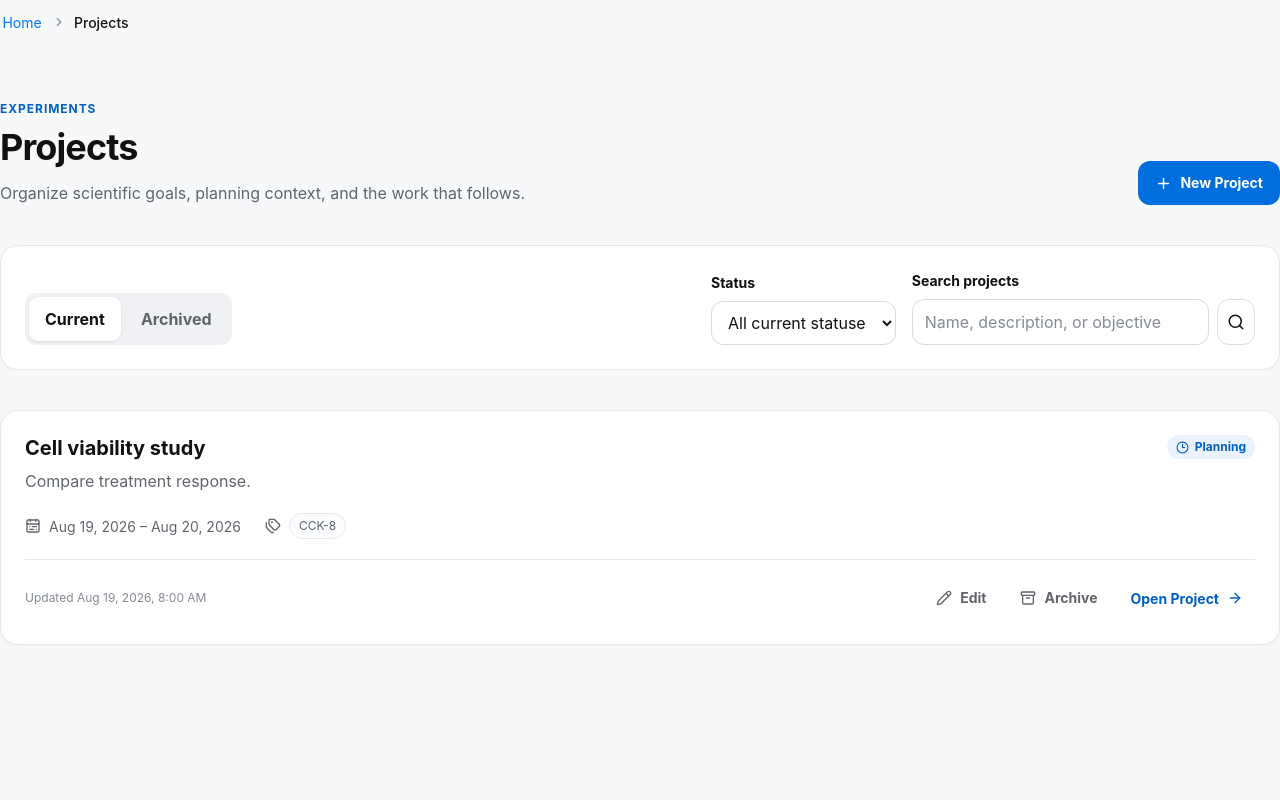
Test: ProjectsPage › confirms archive and removes the Project after the API succeeds
This screenshot has width=1280, height=800.
expect the heading "Cell viability study" is shown: met, box [25,435,206,461]
Click the button "Archive" at (1059, 598), box [1008,576,1110,620]
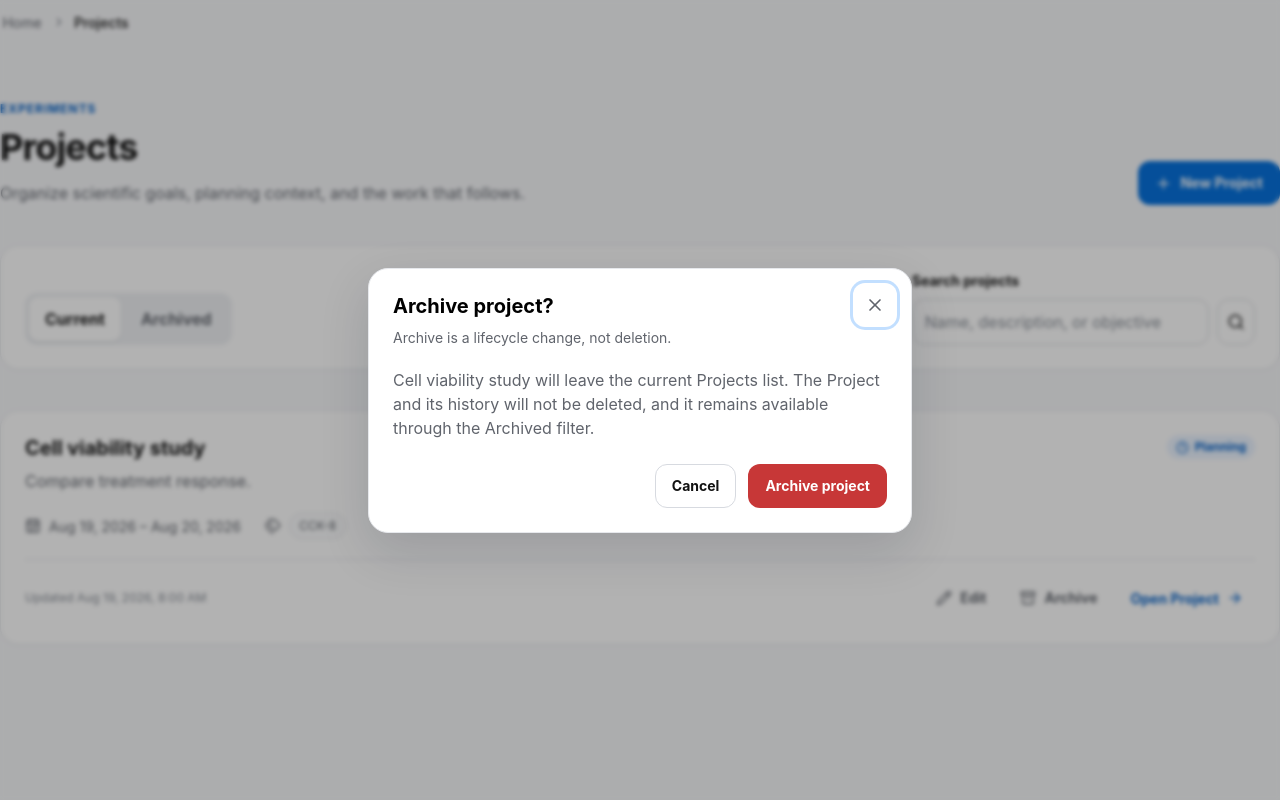
expect the dialog "Archive project?" shows "will not be deleted": met, box [393,370,880,438]
Click the button "Archive project" at (818, 486), box [748,464,887,508]
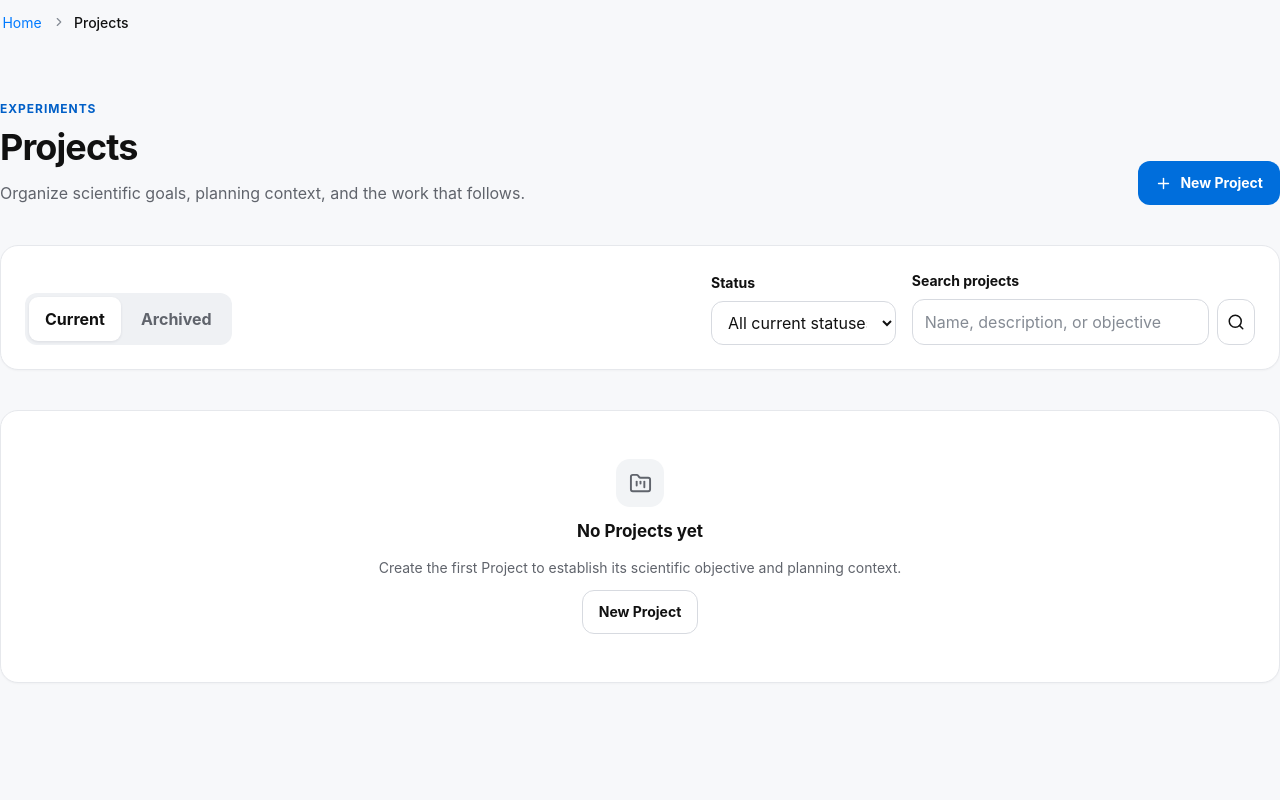
expect the heading "No Projects yet" is shown: met, box [577,519,703,545]
